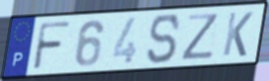4: (111, 15, 139, 67)
6: (73, 18, 105, 69)
F: (30, 20, 73, 72)
K: (220, 11, 255, 59)
S: (145, 12, 182, 66)
Z: (179, 12, 221, 62)
